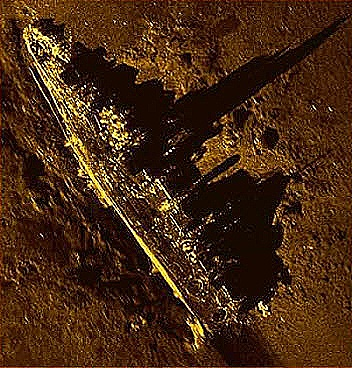ship: (21, 21, 253, 352)
